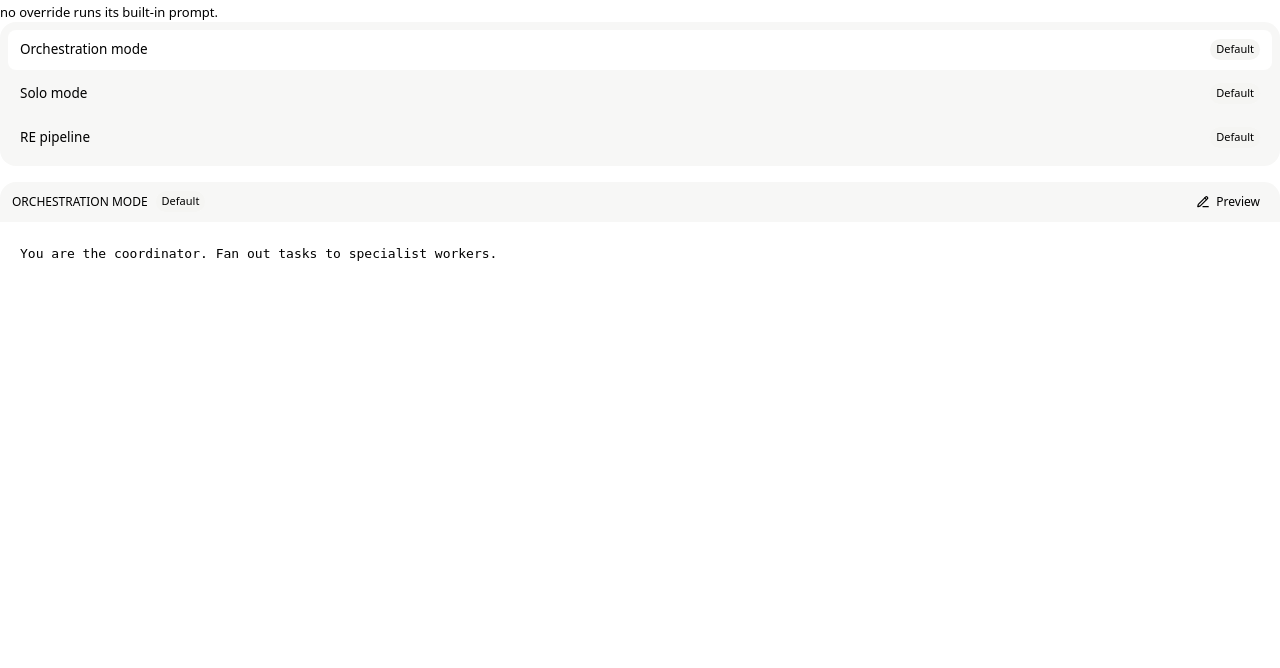
Test: OrchestrationPromptSettings › warns that a custom RE prompt replaces the authorization gate too
Expected: the text "authorization gate" is not shown
Click the tab "RE pipeline Default". click: (55, 137)
box: [8,118,1272,158]
(page scrolled)
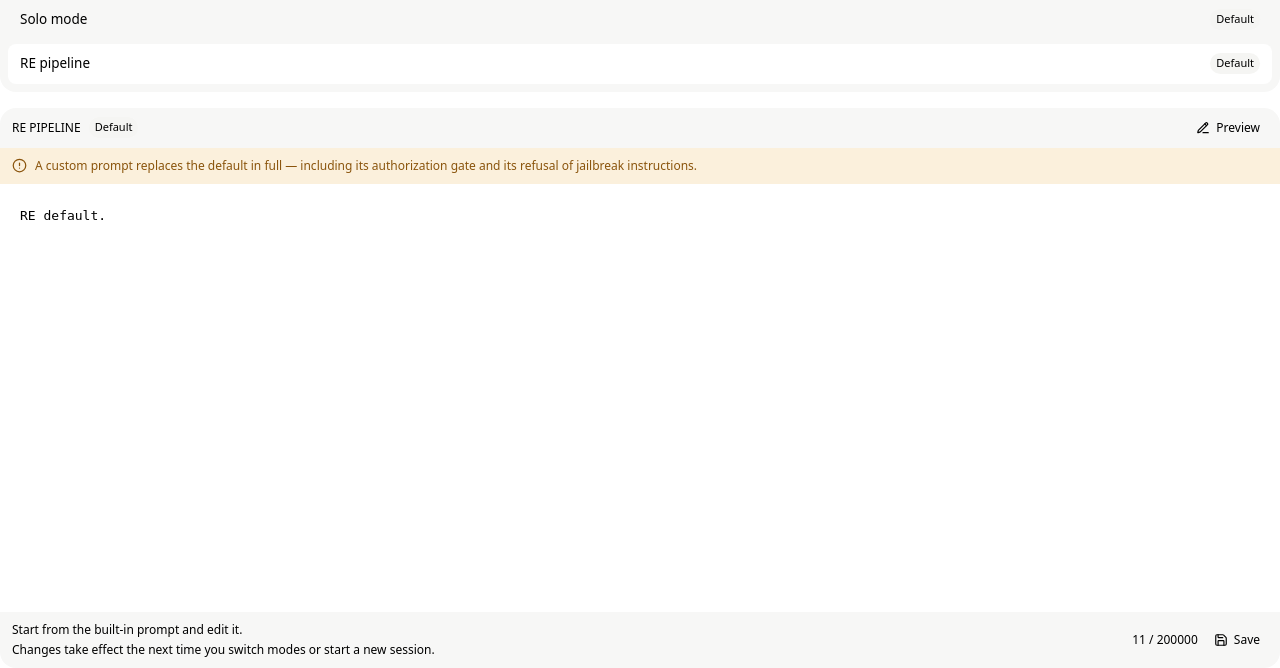
Now the text "A custom prompt replaces the default in full — including its authorization gate and its refusal of jailbreak instruction" is shown, box [35,156,697,174]
Now the text box named "RE pipeline" holds "RE default."
